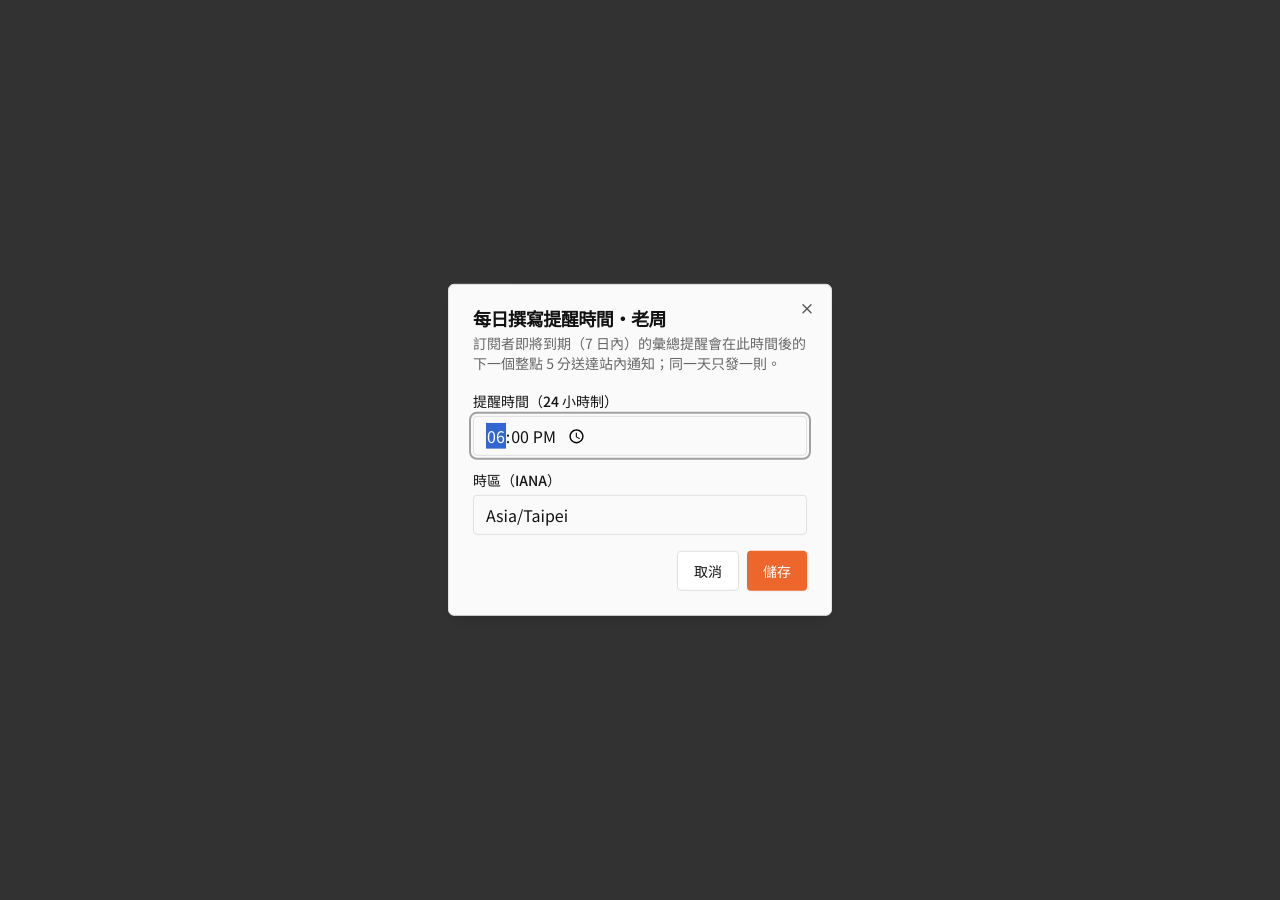
it: ReminderTimeDialog persists HH:mm + timezone and degrades gracefully › shows an understandable error (no crash) when the migration is not applied
The width and height of the screenshot is (1280, 900).
Step 1. Click the button "儲存" → click(777, 571), box left=747, top=551, right=807, bottom=591
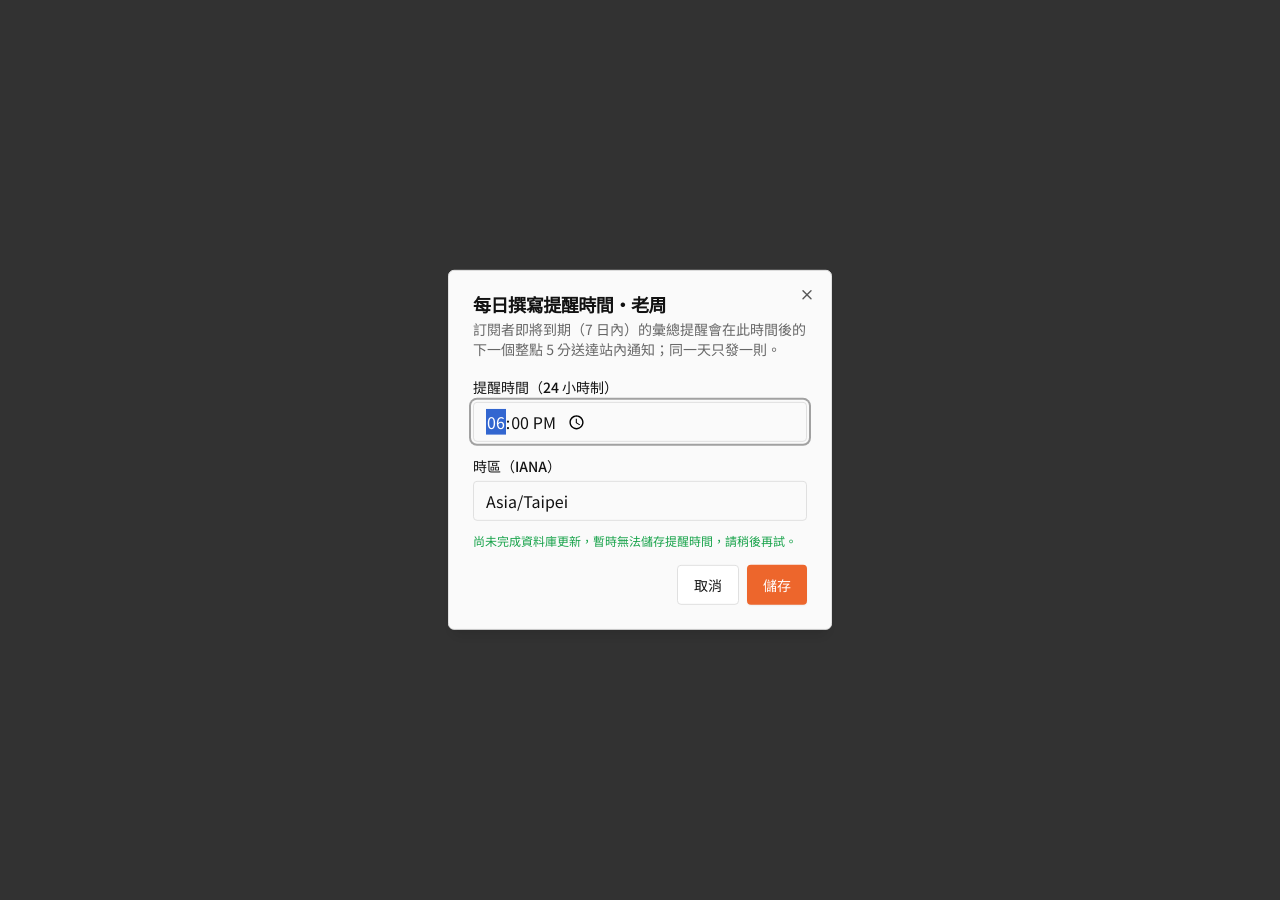
Expected: the field labelled "時區（IANA）" is shown, left=473, top=481, right=807, bottom=521
Result: the message with test id "reminder-save-error" shows "尚未完成資料庫更新" at left=473, top=532, right=797, bottom=549
